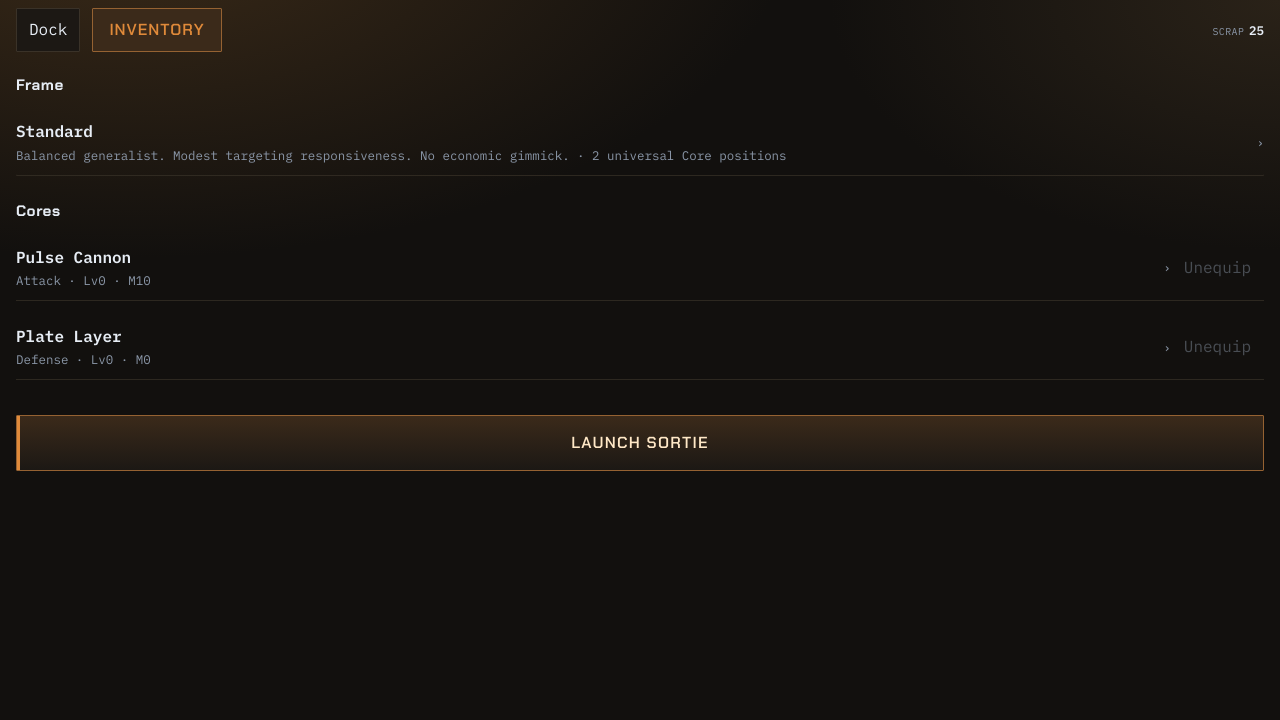
it: UI architecture reset › lists every Core mastery milestone and highlights unlocked ranks
The width and height of the screenshot is (1280, 720).
Click the button with class "ui-item-row" that starts with "Pulse Cannon": (74, 257) [16,234,1171,301]
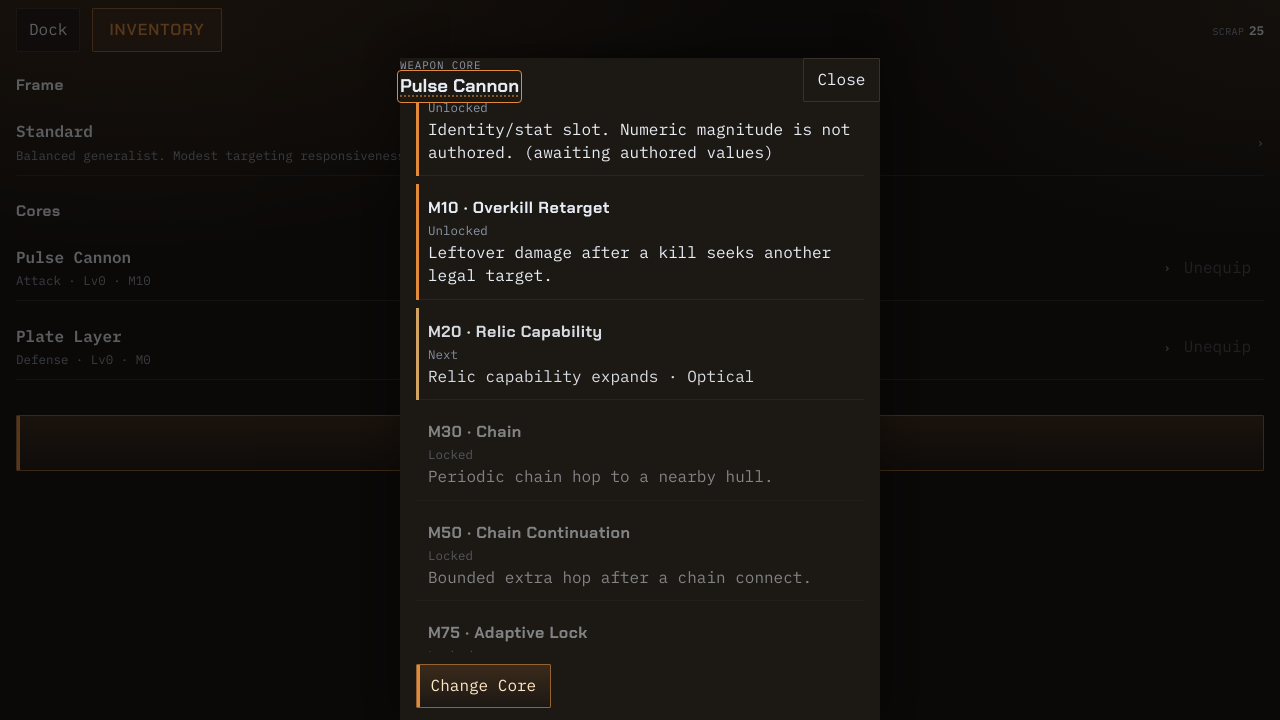
Expected: the text "M10 · Overkill Retarget" is shown, [428,197,610,218]
Expected: the text "M20 · Relic Capability" is shown, [428,321,602,342]
Expected: the text "M30 · Chain" is shown, [428,421,522,442]
